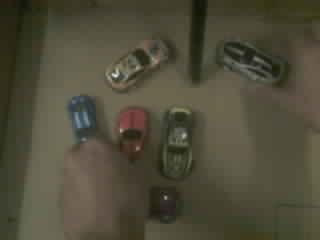Car: (106, 39, 169, 91), (217, 40, 283, 82), (159, 106, 193, 179), (118, 106, 147, 158), (70, 95, 96, 140), (152, 188, 177, 220)
